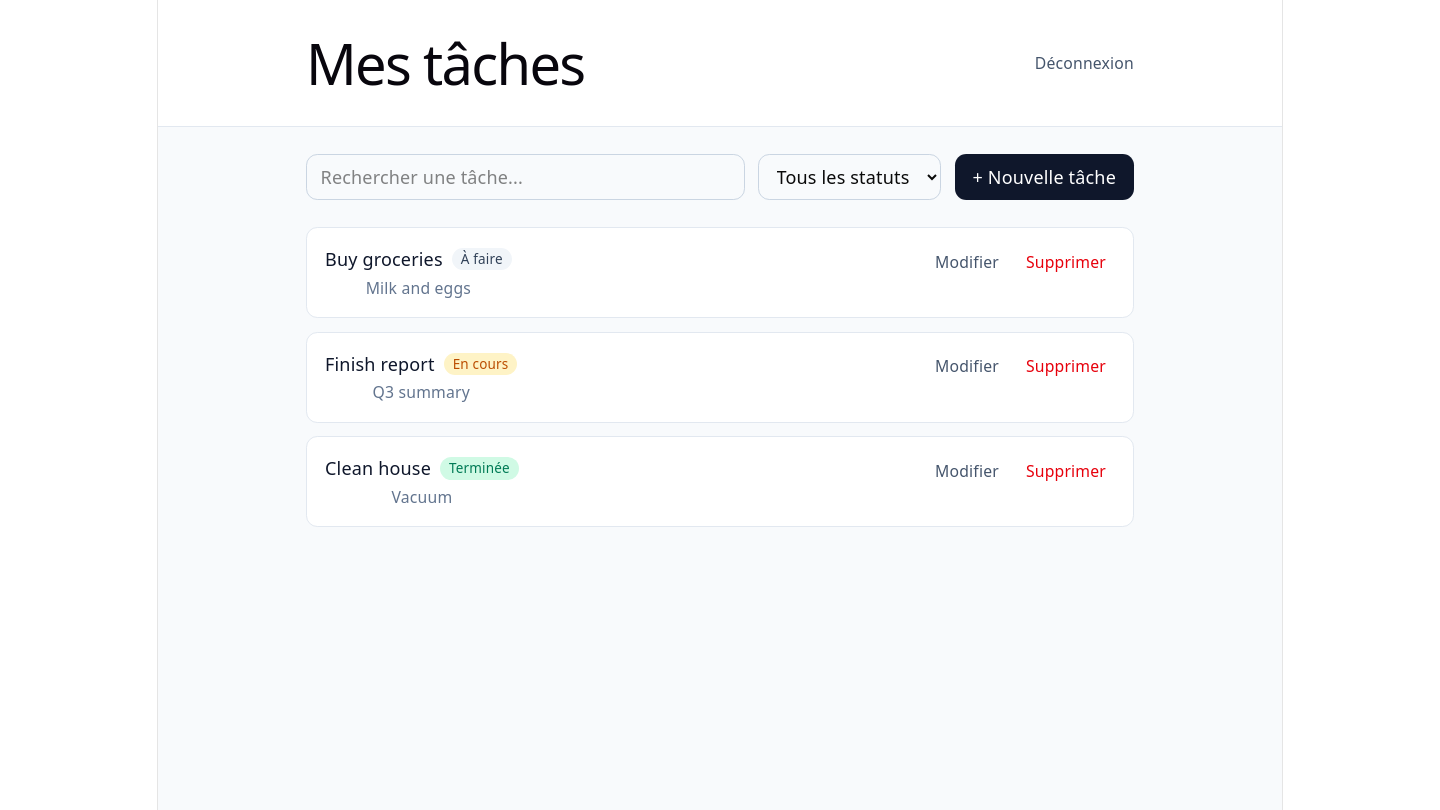
Test case: DashboardPage › creates a new task and adds it to the list
Check: the heading "Buy groceries" is shown, box [325,246,443,272]
Click the button "+ Nouvelle tâche" at (1044, 177), box [954,154,1134,200]
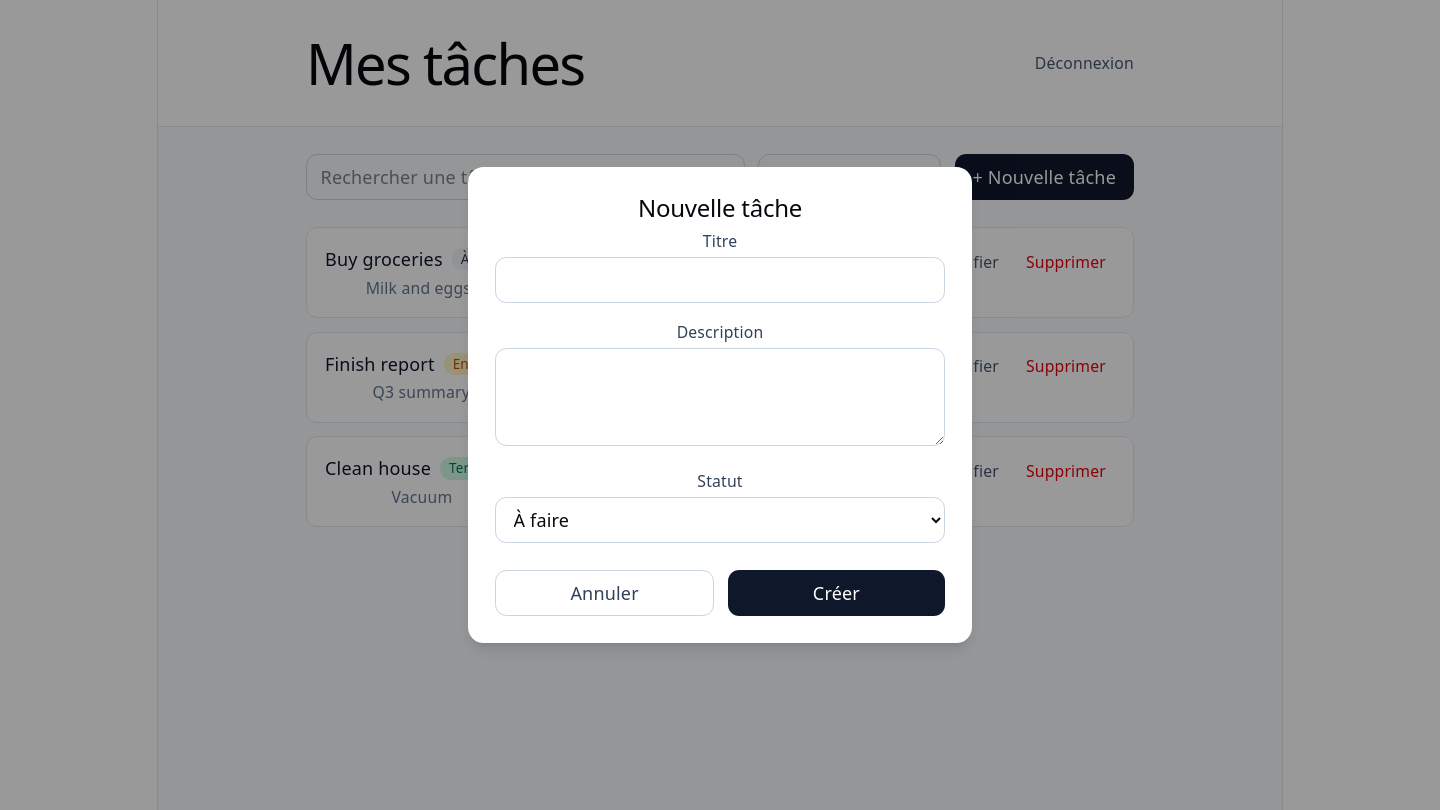
Type "New Task" into the field labelled "Titre" at (720, 280), box [495,257,945,303]
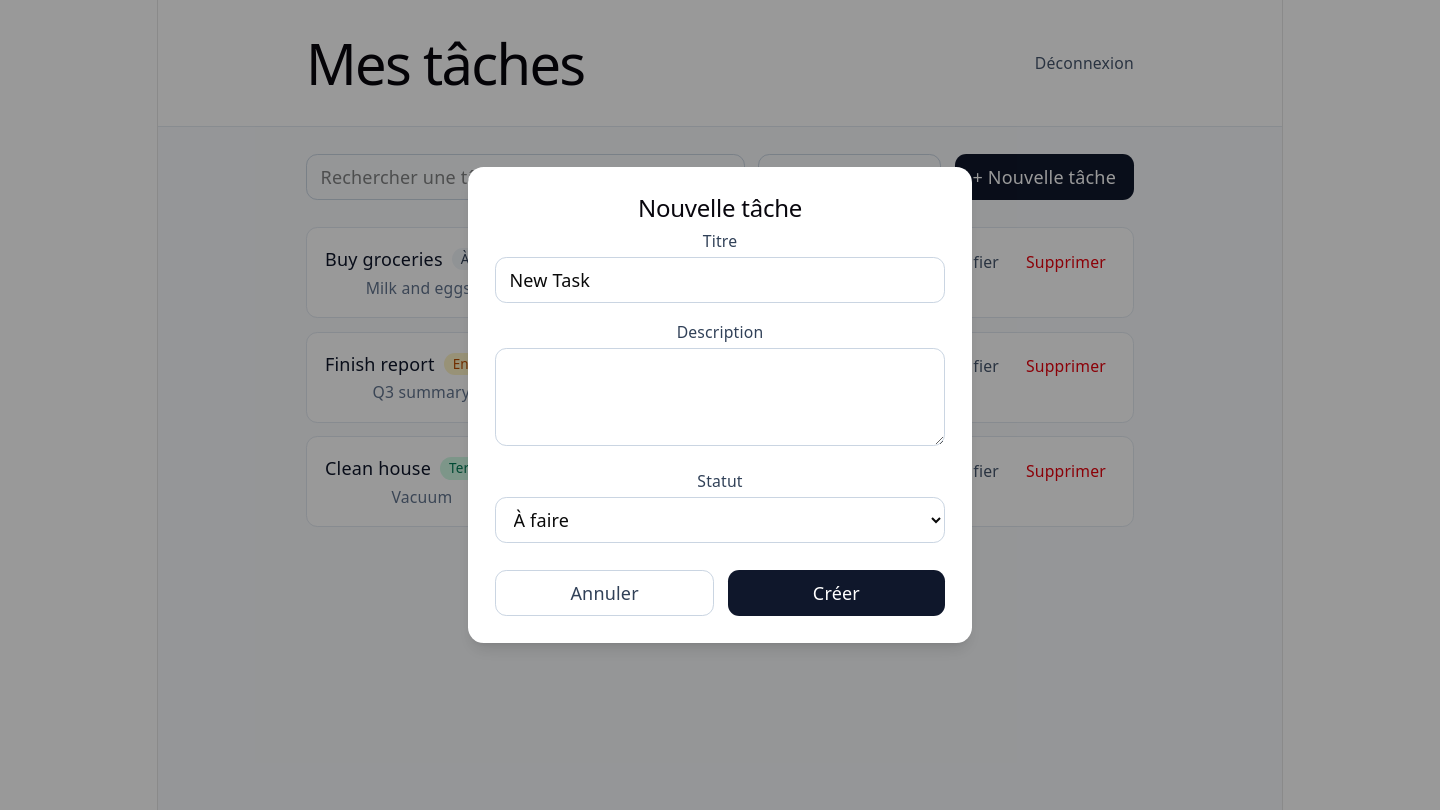
Type "New Desc" into the text box labelled "Description" at (720, 397), box [495,348,945,446]
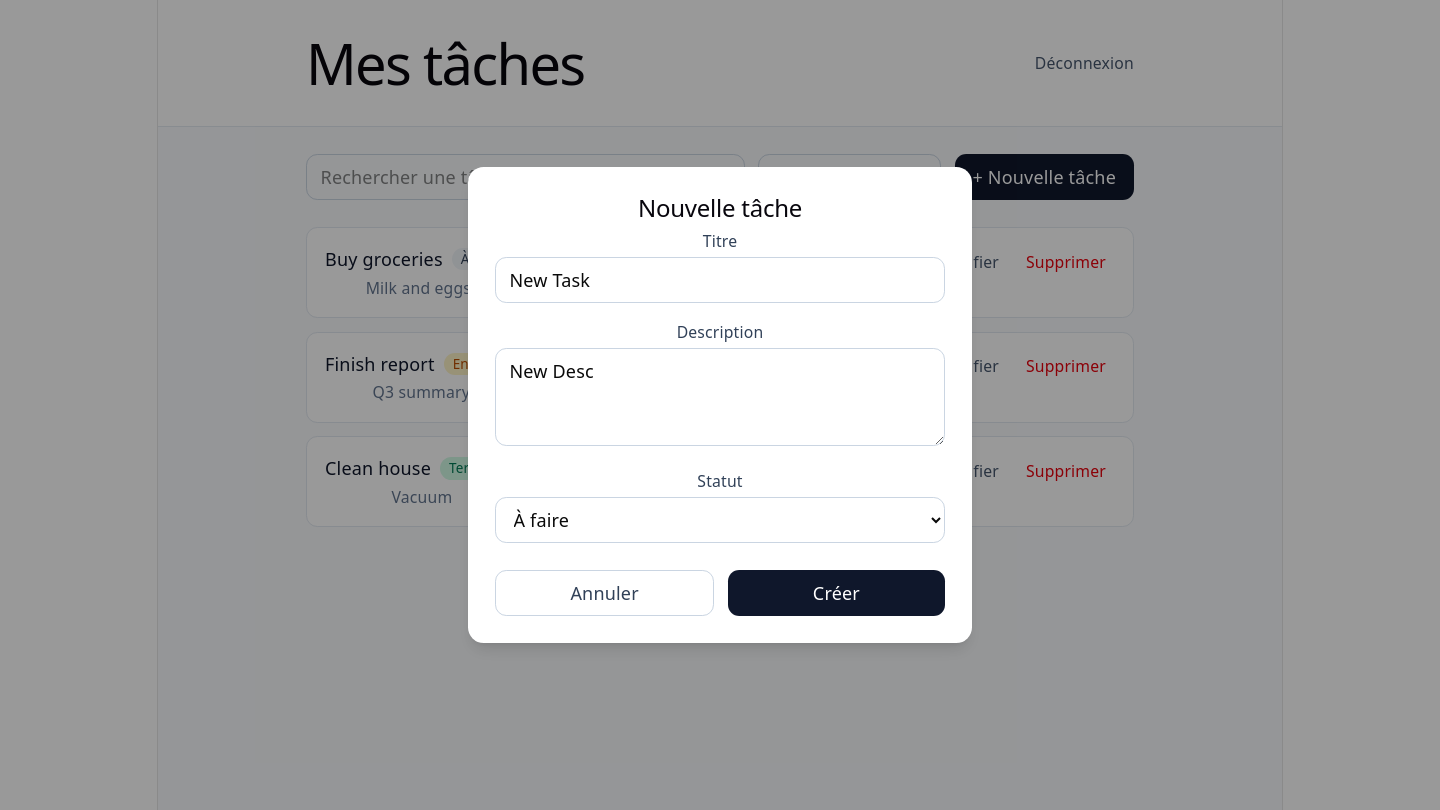
Click the button "Créer" at (836, 593), box [728,570,945,616]
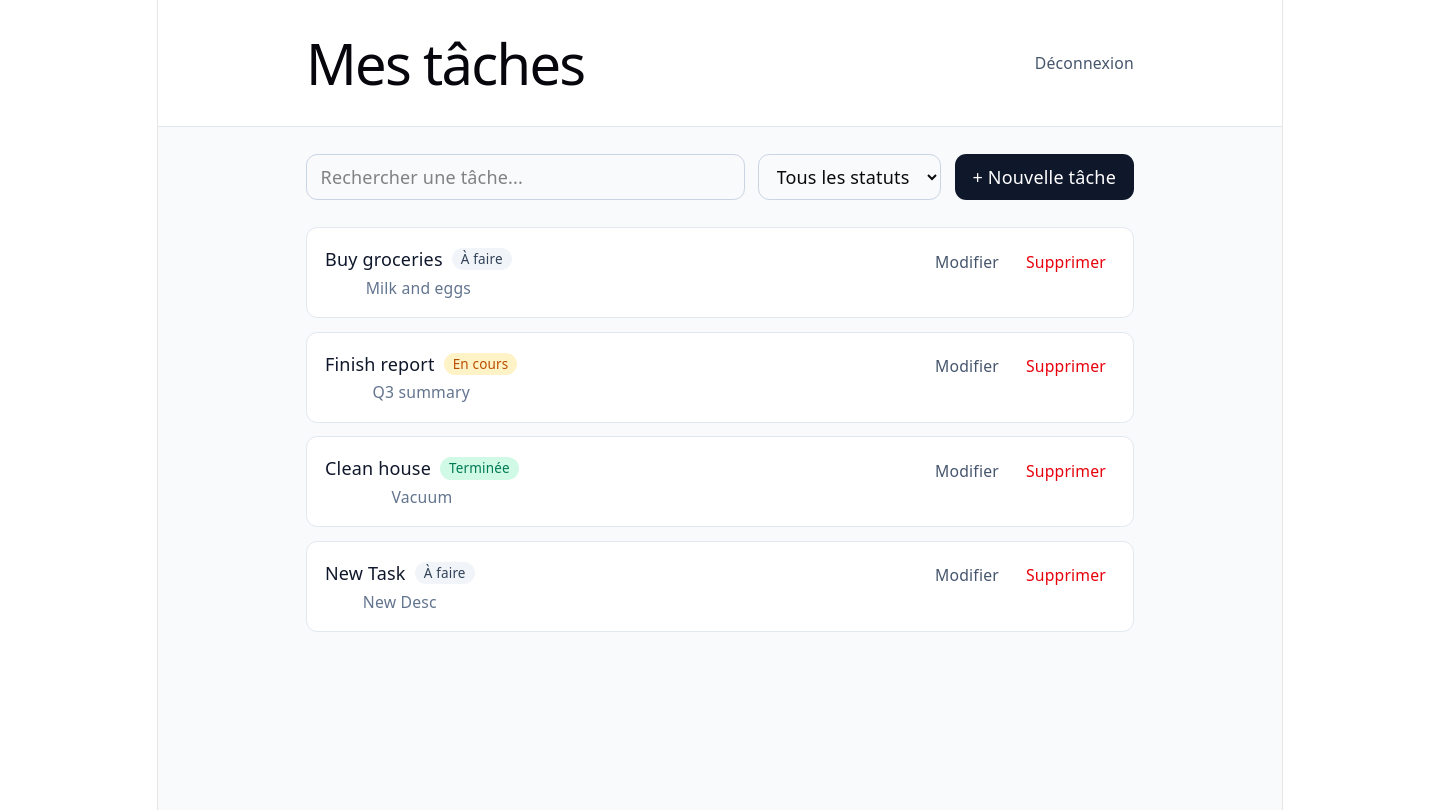
Check: the heading "New Task" is shown, box [325,560,406,586]
